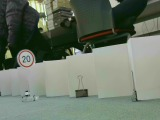speed_20: (16, 48, 35, 69)
